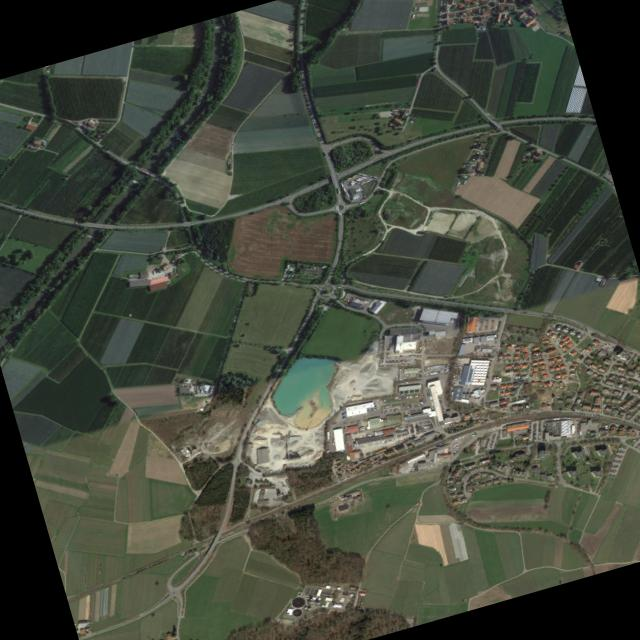storage-tank: (289, 594, 307, 609), (290, 606, 303, 618), (307, 597, 316, 605), (314, 598, 322, 606), (338, 596, 346, 603), (307, 607, 313, 611), (304, 605, 308, 610)
